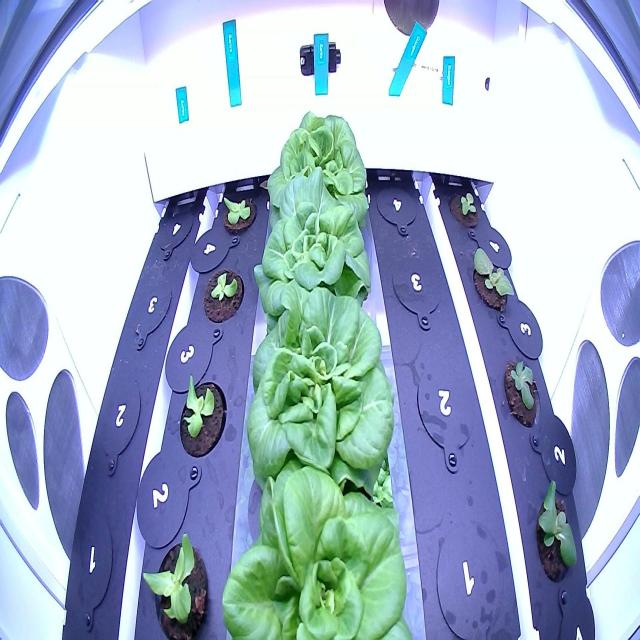empty_pod: (431, 514, 506, 639), (414, 352, 476, 482), (70, 504, 118, 634), (92, 370, 144, 478), (390, 246, 444, 339), (127, 272, 174, 351), (152, 194, 198, 268), (374, 176, 421, 237)
young: (215, 456, 417, 640), (240, 276, 400, 490), (250, 192, 384, 334), (256, 102, 378, 224), (136, 528, 214, 640), (530, 473, 584, 590), (174, 366, 230, 464), (465, 242, 521, 324), (497, 346, 545, 437), (201, 256, 247, 326), (444, 174, 488, 235), (218, 180, 258, 244)
